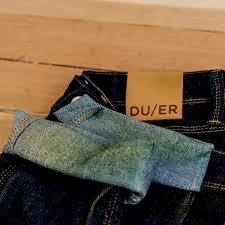earth: (97, 141, 144, 160)
